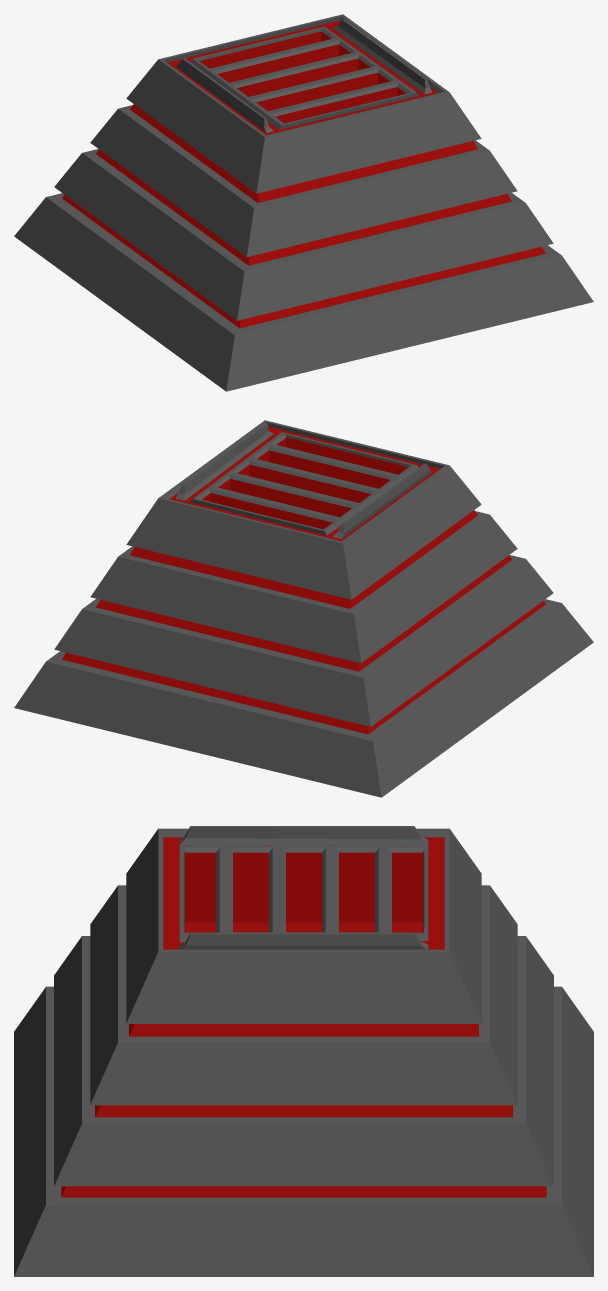
The model's file is Altar Deactivated.fbx.
The picture shows the model from 3 angles, top to bottom: view 1: azimuth 30°, elevation 25°; view 2: azimuth 150°, elevation 25°; view 3: azimuth 270°, elevation 25°; orthographic projection. The views are drawn at different scales.
Parts seen in each view (by area): view 1: Altar; view 2: Altar; view 3: Altar.
Boxes of the visible parts, left/top/right/bottom form: Altar: left=14, top=14, right=593, bottom=391; Altar: left=14, top=420, right=593, bottom=797; Altar: left=14, top=826, right=593, bottom=1276.
Bounding box in the file's own units: 398 × 398 × 208.
